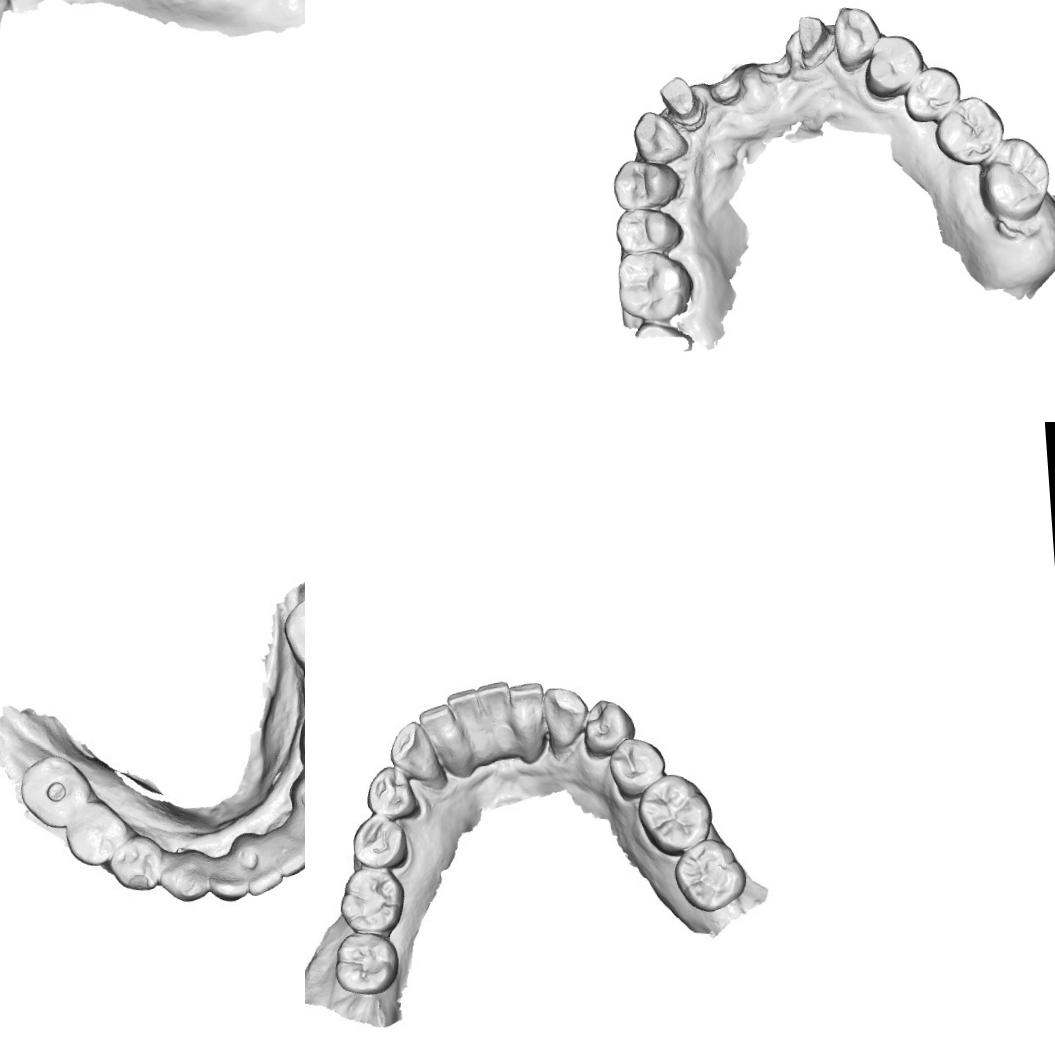canine: (828, 2, 886, 73), (628, 106, 692, 170), (538, 681, 592, 748), (384, 718, 440, 782), (158, 845, 210, 900)
crown: (654, 72, 707, 130), (792, 8, 839, 71)
incisor: (442, 683, 486, 754), (506, 673, 552, 739), (414, 698, 459, 762), (470, 676, 516, 732), (207, 852, 250, 906), (239, 846, 283, 895), (266, 825, 305, 870), (286, 799, 305, 859)
molar: (632, 768, 716, 858), (973, 133, 1054, 225), (611, 246, 696, 327), (669, 835, 749, 914), (930, 92, 1008, 170), (336, 861, 407, 935), (330, 926, 402, 997), (19, 756, 87, 830), (283, 592, 305, 664)
premolar: (859, 30, 928, 101), (608, 154, 684, 214), (610, 201, 687, 259), (898, 62, 964, 126), (606, 734, 668, 802), (576, 692, 637, 758), (346, 810, 408, 872), (64, 807, 126, 867), (362, 763, 420, 824), (108, 838, 162, 888)
